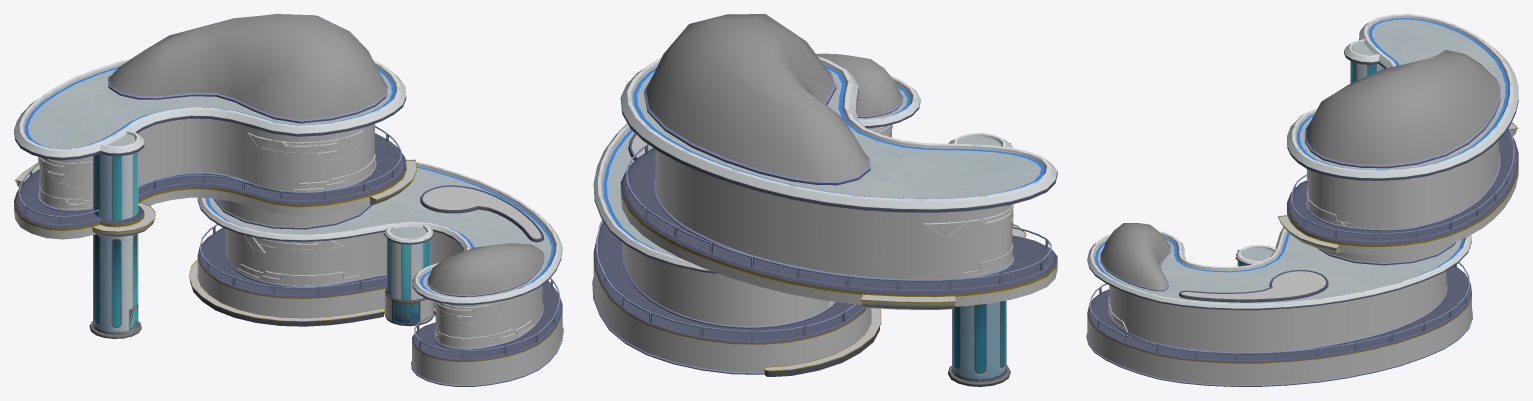
The model's file is mesh_1002_jxl_2.FBX.
The picture shows the model from 3 angles, left to right: view 1: azimuth 30°, elevation 25°; view 2: azimuth 150°, elevation 25°; view 3: azimuth 270°, elevation 25°; orthographic projection. The views are drawn at different scales.
Parts seen in each view (by area): view 1: mesh_1002_jxl_2c, mesh_1002_jxl_2b, mesh_1002_jxl_2d, mesh_1002_jxl_2e, mesh_1002_jxl_2f, mesh_1002_jxl_2a, mesh_1002_jxl_2g; view 2: mesh_1002_jxl_2c, mesh_1002_jxl_2b, mesh_1002_jxl_2d, mesh_1002_jxl_2e, mesh_1002_jxl_2f, mesh_1002_jxl_2a, mesh_1002_jxl_2g; view 3: mesh_1002_jxl_2c, mesh_1002_jxl_2b, mesh_1002_jxl_2e, mesh_1002_jxl_2d, mesh_1002_jxl_2f, mesh_1002_jxl_2g, mesh_1002_jxl_2a.
Boxes of the visible parts, <box> form: mesh_1002_jxl_2c: <box>14,118,562,384</box>; mesh_1002_jxl_2b: <box>110,14,543,294</box>; mesh_1002_jxl_2d: <box>14,126,562,361</box>; mesh_1002_jxl_2e: <box>14,59,563,386</box>; mesh_1002_jxl_2f: <box>28,69,551,297</box>; mesh_1002_jxl_2a: <box>89,136,434,338</box>; mesh_1002_jxl_2g: <box>16,160,541,320</box>; mesh_1002_jxl_2c: <box>593,124,1057,372</box>; mesh_1002_jxl_2b: <box>646,14,901,180</box>; mesh_1002_jxl_2d: <box>593,133,1057,376</box>; mesh_1002_jxl_2e: <box>592,56,1057,374</box>; mesh_1002_jxl_2f: <box>607,69,1040,257</box>; mesh_1002_jxl_2a: <box>948,140,1010,386</box>; mesh_1002_jxl_2g: <box>631,134,1024,370</box>; mesh_1002_jxl_2c: <box>1087,140,1518,385</box>; mesh_1002_jxl_2b: <box>1101,50,1498,289</box>; mesh_1002_jxl_2e: <box>1086,14,1518,386</box>; mesh_1002_jxl_2d: <box>1087,122,1518,363</box>; mesh_1002_jxl_2f: <box>1097,19,1505,303</box>; mesh_1002_jxl_2g: <box>1181,122,1516,299</box>; mesh_1002_jxl_2a: <box>1235,43,1384,266</box>.
Size of the model in its own units: 4568 by 2613 by 4282.
